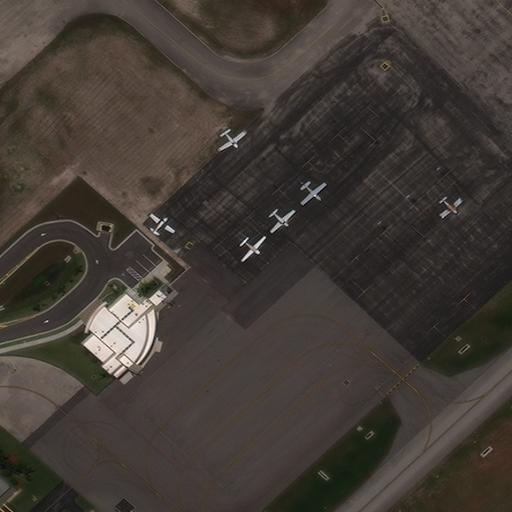Small Civil Transport: (241, 237, 266, 263), (219, 131, 247, 152), (271, 211, 296, 233), (302, 184, 327, 206), (150, 212, 176, 233), (442, 198, 463, 217)
